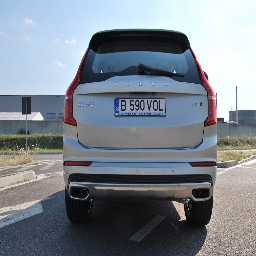sv_licence_plate: (114, 97, 167, 116)
